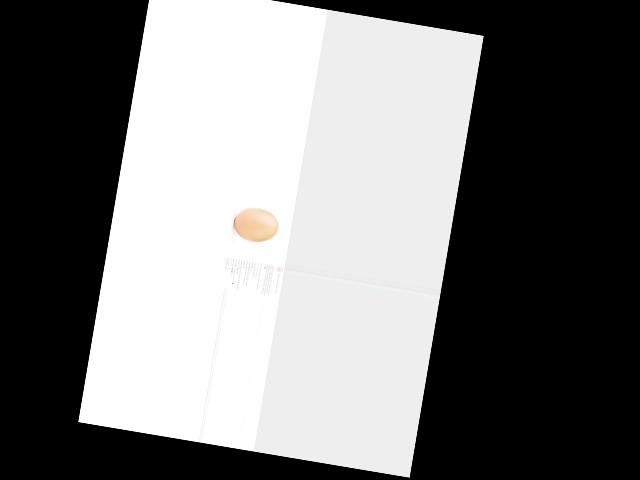egg: (231, 204, 280, 245)
